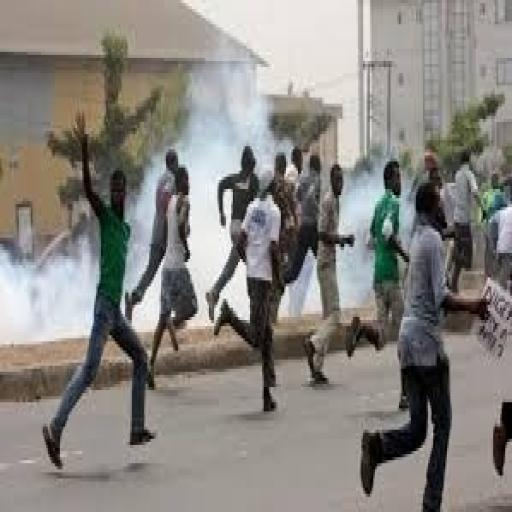running: (40, 106, 160, 476), (358, 177, 491, 509), (210, 162, 288, 418), (302, 159, 360, 390), (146, 162, 200, 393)
